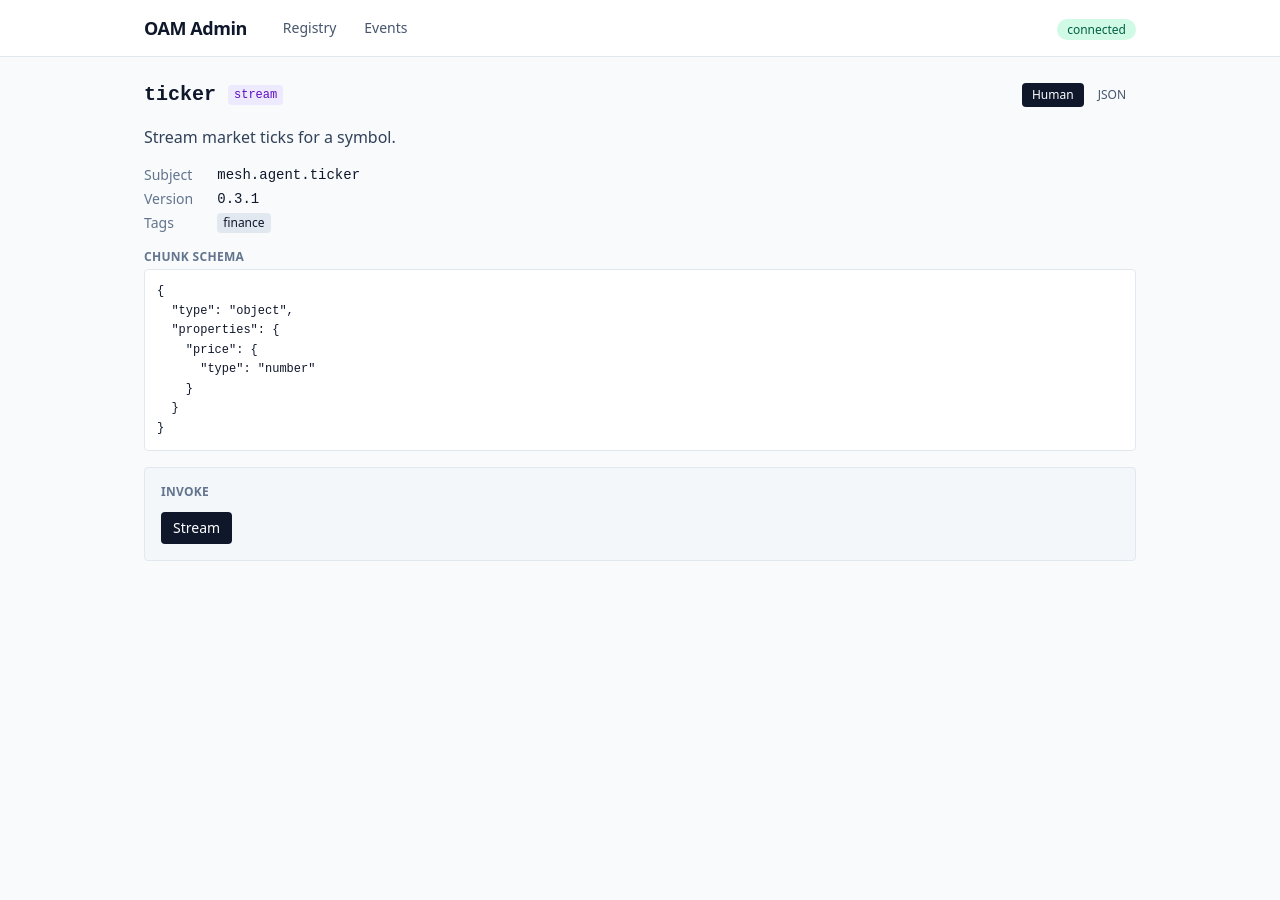
invocation sandbox › stops a running stream from the stop button
Click the button "Stream" at [197, 528], box [161,512,232,544]
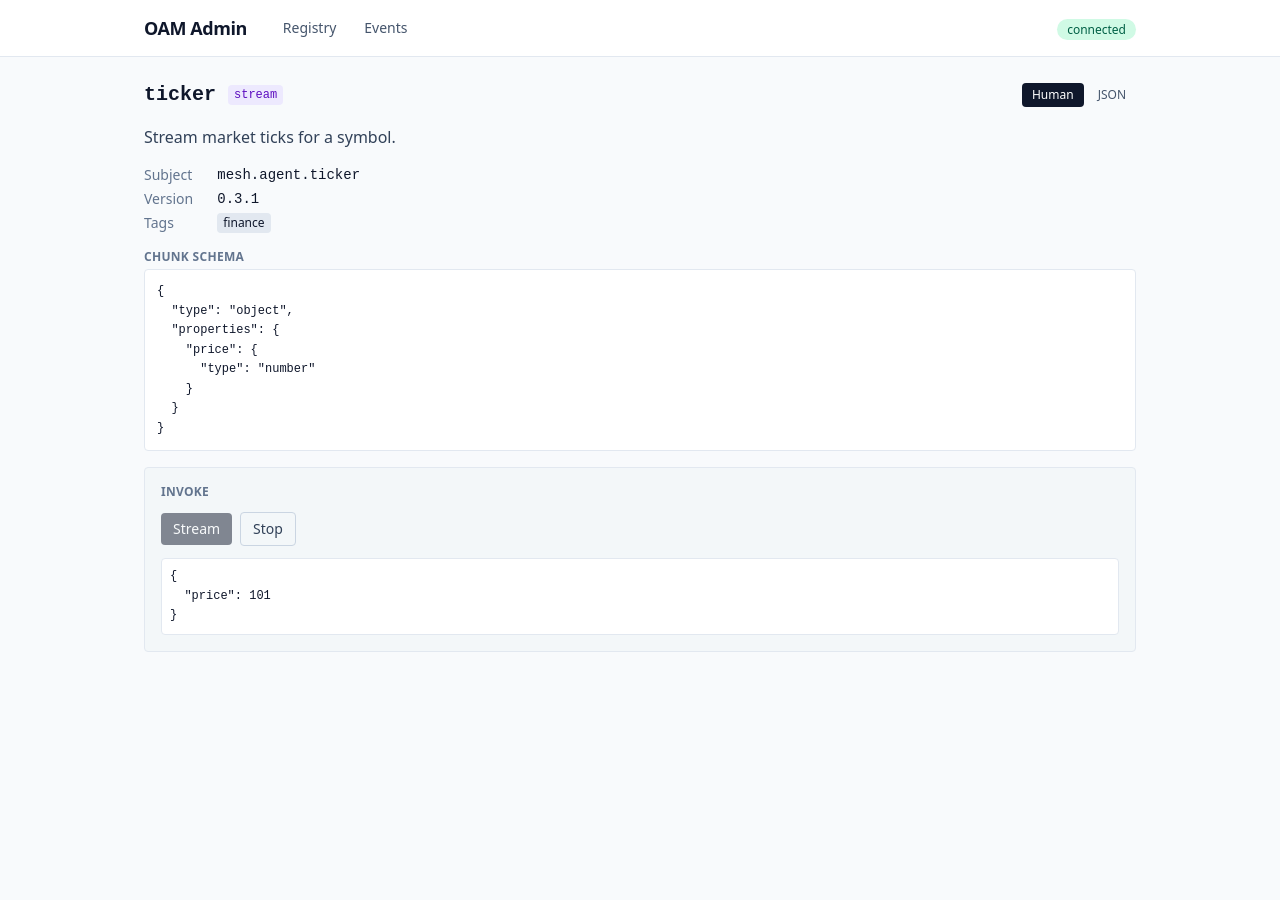
Check: the text "{ \"price\": 101 }" is shown, box [161,558,1119,634]
Click the button "Stop" at [268, 529], box [240,512,296,546]
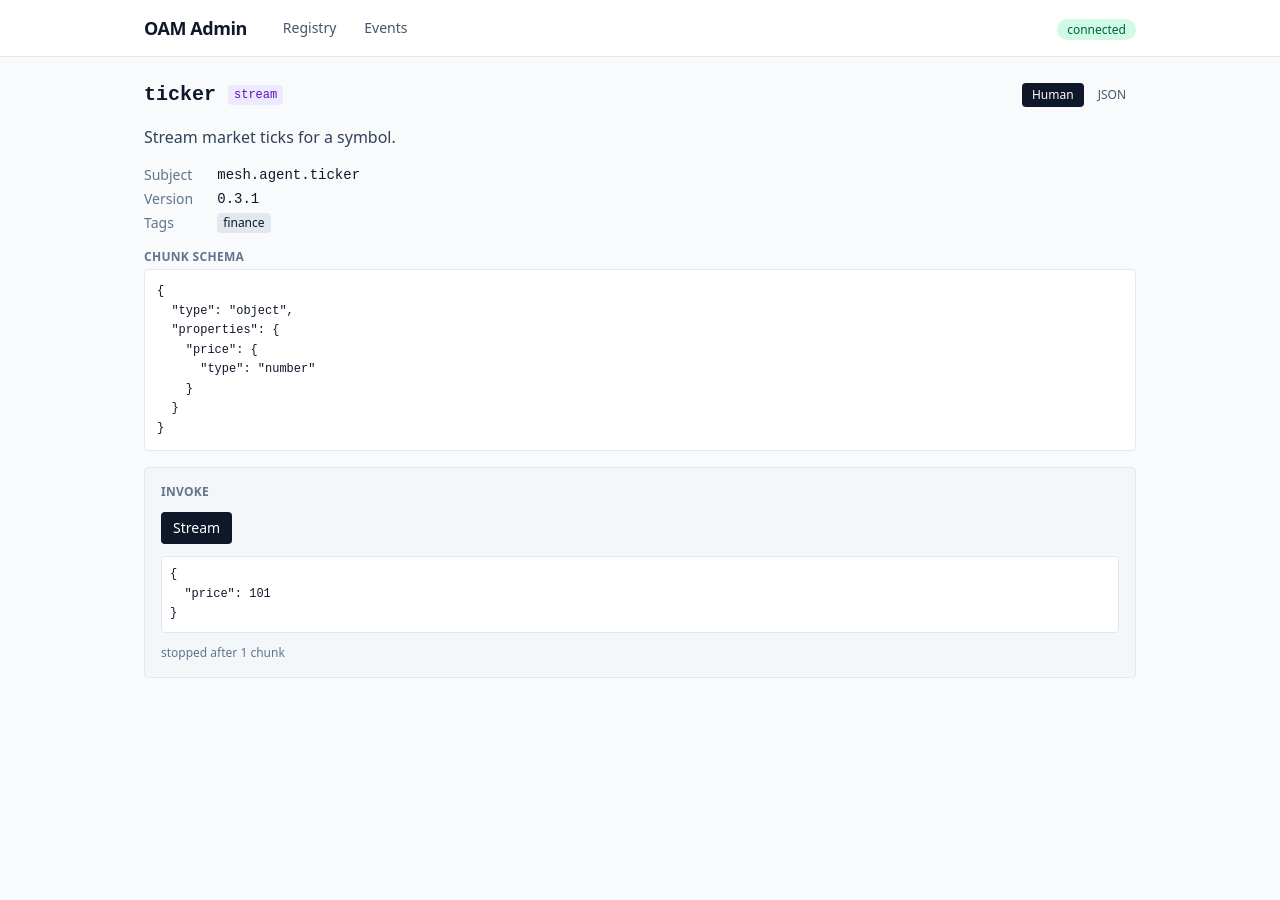
Check: the text "stopped after 1 chunk" is shown, box [161,644,285,660]
